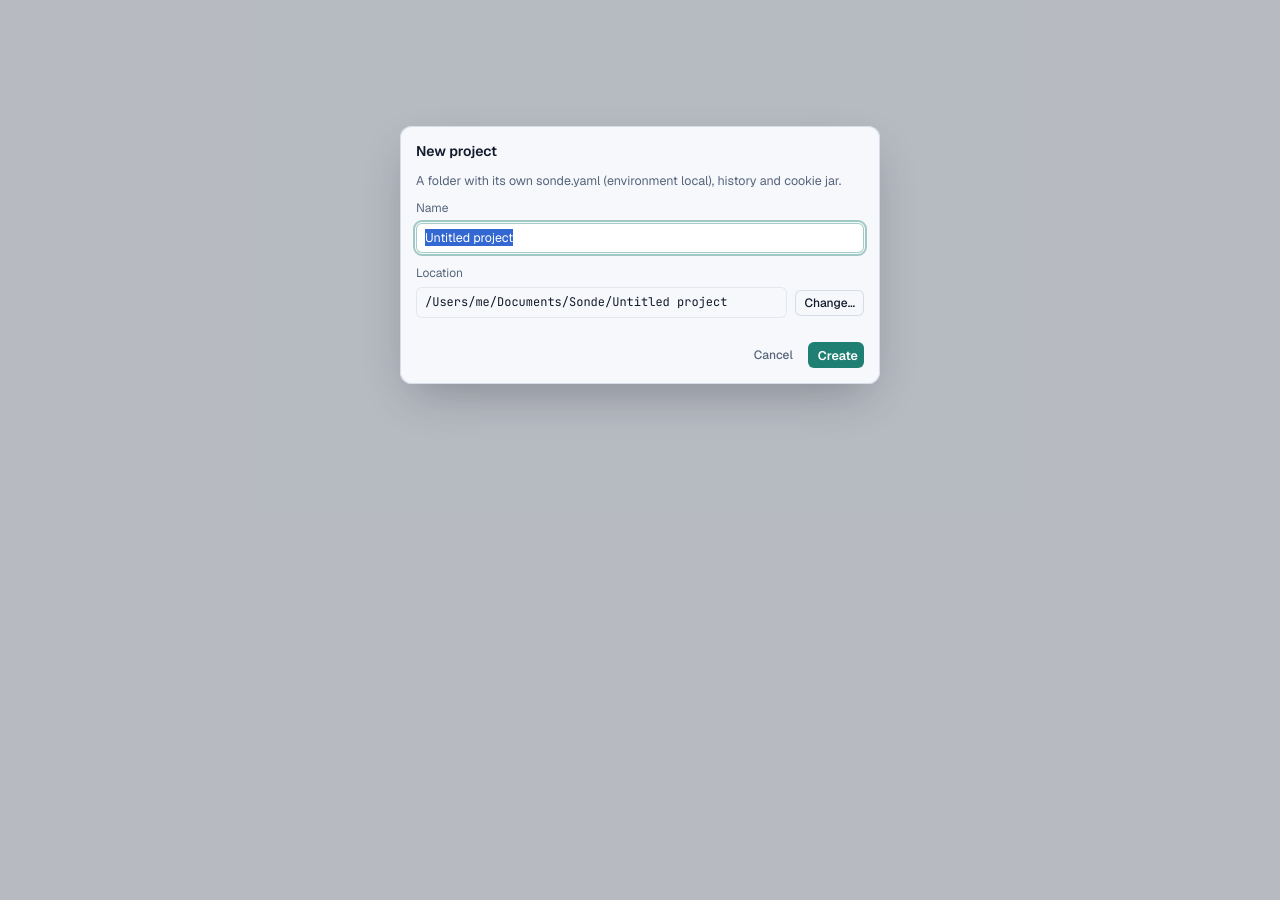
Scenario: NewProjectDialog › says why a project is not made, and stays open
The width and height of the screenshot is (1280, 900).
Expected: the text "/Users/me/Documents/Sonde/Untitled project" is shown, 416,287 -> 787,318
Click the button "Create" at (836, 355), box 808,342 -> 864,368
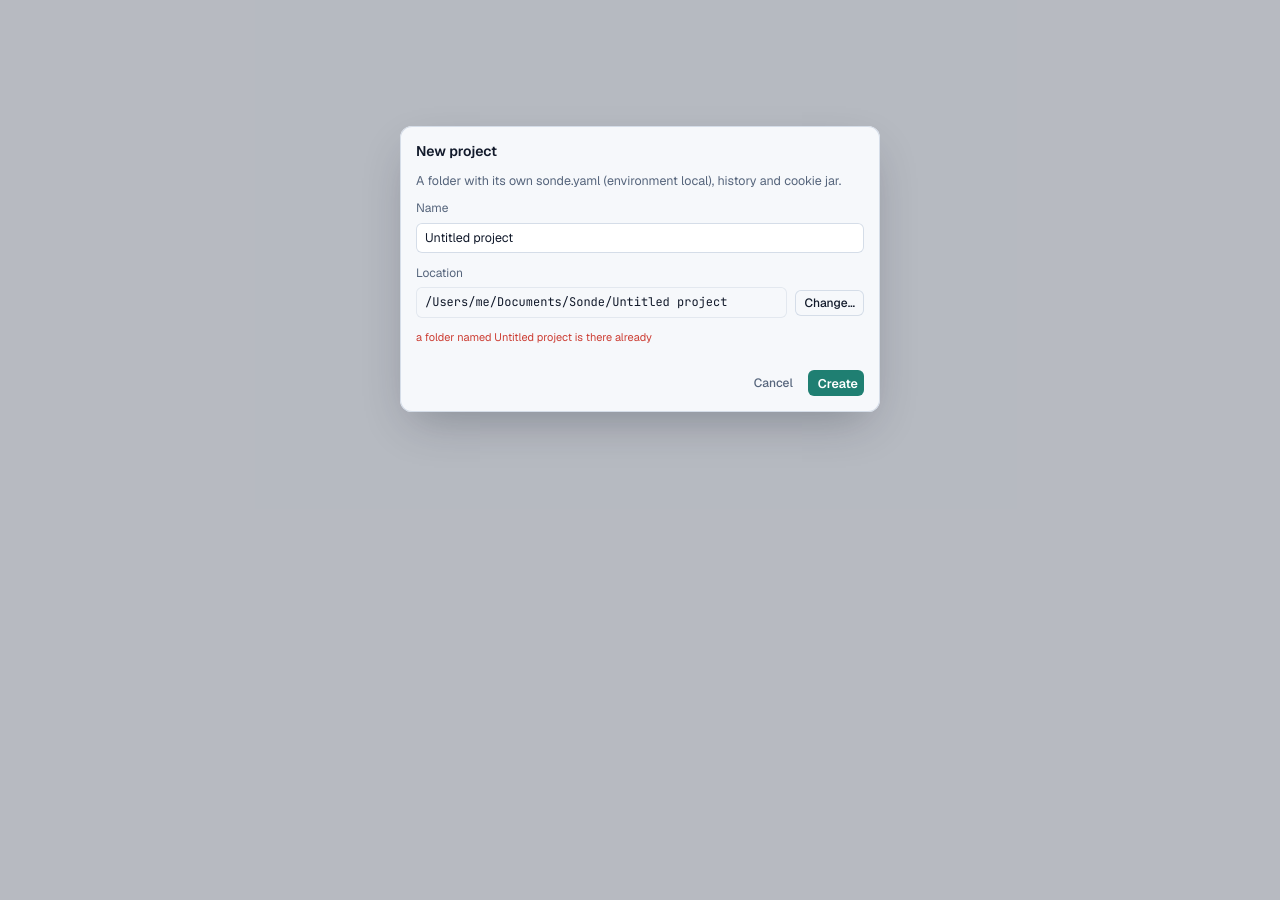
Expected: the field named "Project name" is shown, 416,222 -> 864,252
Now the message shows "is there already", box 416,330 -> 652,344
